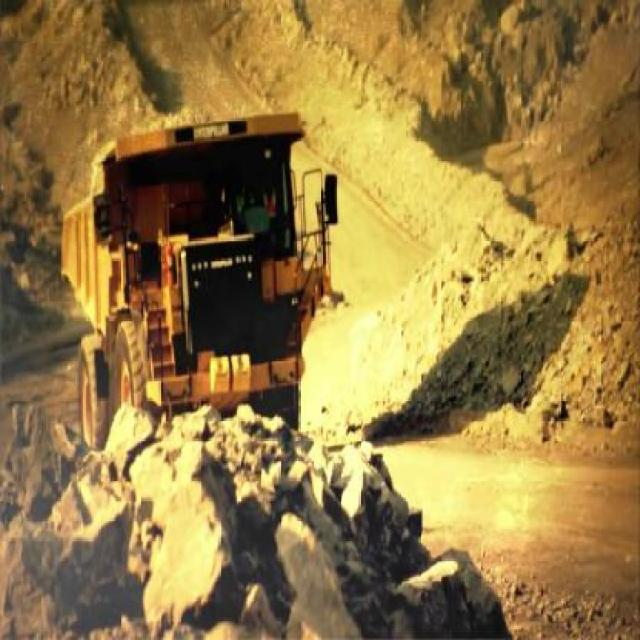dump_truck: (54, 105, 340, 448)
